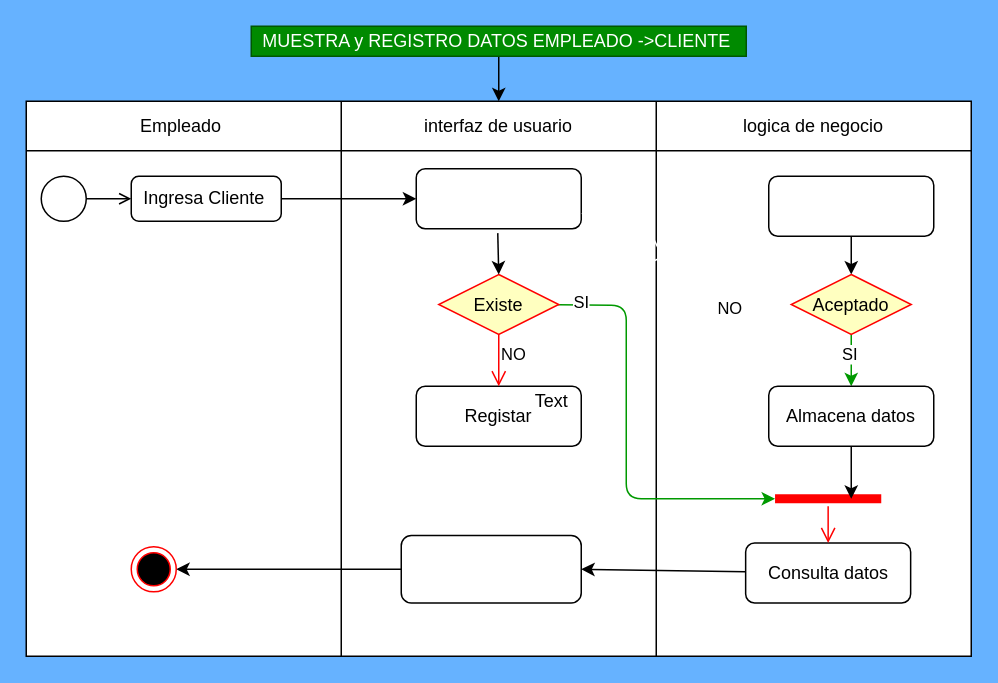
Some shapes in this 998 by 683 pixel diagram are drawn without their labels. Here are the shapes that lost their labels. From the top down, the centre of each, then its label:
[498,198]: Valida registro
[850,205]: criterio de aceptacion
[490,568]: Muestra datos
